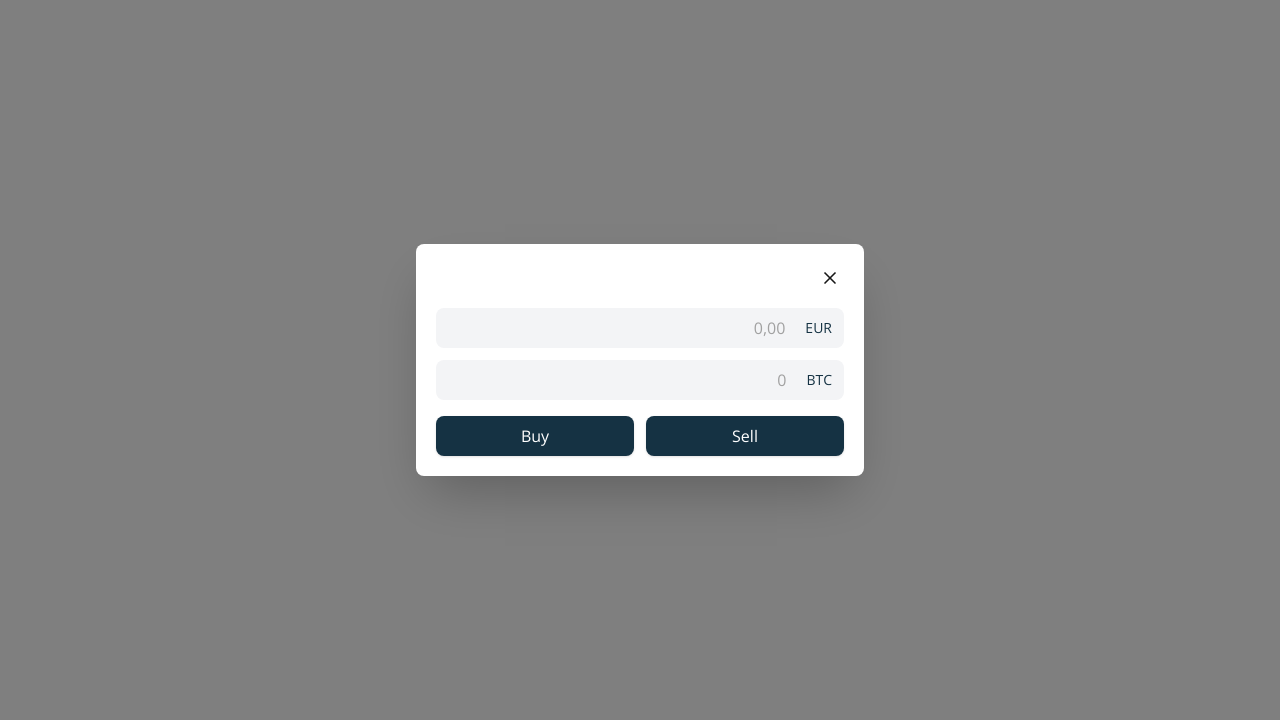
it: TradeModal › typing BTC syncs EUR using the exchange rate
In the field with placeholder "0": (615, 380) [436,360,794,400], type "0.1"
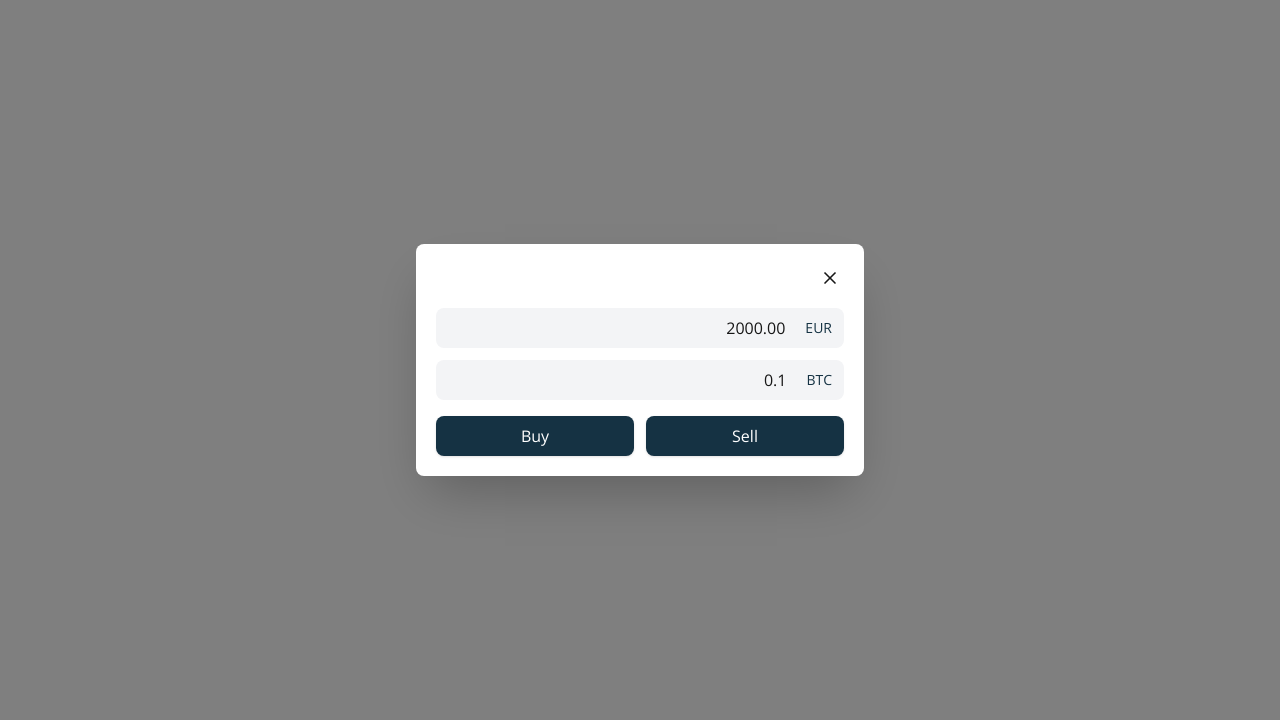
Expected: the field next to "EUR" holds "2000.00", [436,308,793,348]
